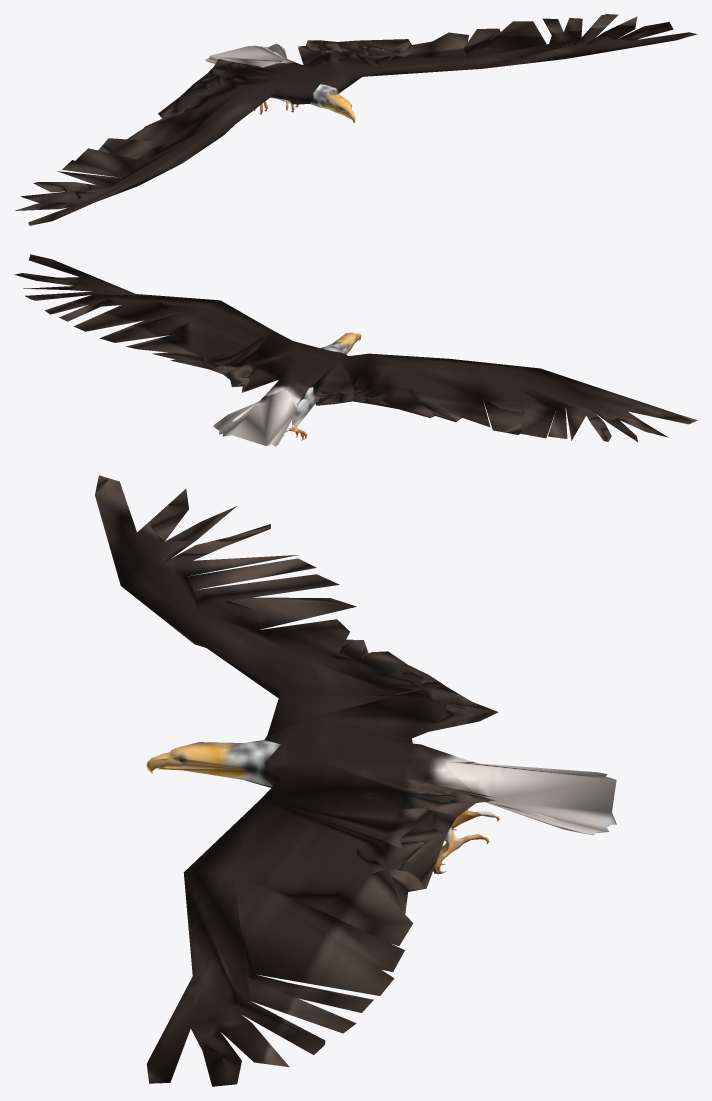
File: eager1.obj
The picture shows the model from 3 angles, top to bottom: view 1: azimuth 30°, elevation 25°; view 2: azimuth 150°, elevation 25°; view 3: azimuth 270°, elevation 25°; orthographic projection. The views are drawn at different scales.
Visible parts, largest first — view 1: donhua_01_laoyingdonhua_01_ying_eagle_2; view 2: donhua_01_laoyingdonhua_01_ying_eagle_2; view 3: donhua_01_laoyingdonhua_01_ying_eagle_2.
Boxes of the visible parts, box(x1,y1,x2,y2) form: donhua_01_laoyingdonhua_01_ying_eagle_2: box(15, 14, 697, 225); donhua_01_laoyingdonhua_01_ying_eagle_2: box(14, 254, 697, 446); donhua_01_laoyingdonhua_01_ying_eagle_2: box(95, 475, 616, 1086).
Size of the model in its own units: 51.81 by 5.16 by 17.89.
1 material, 1 textured.
